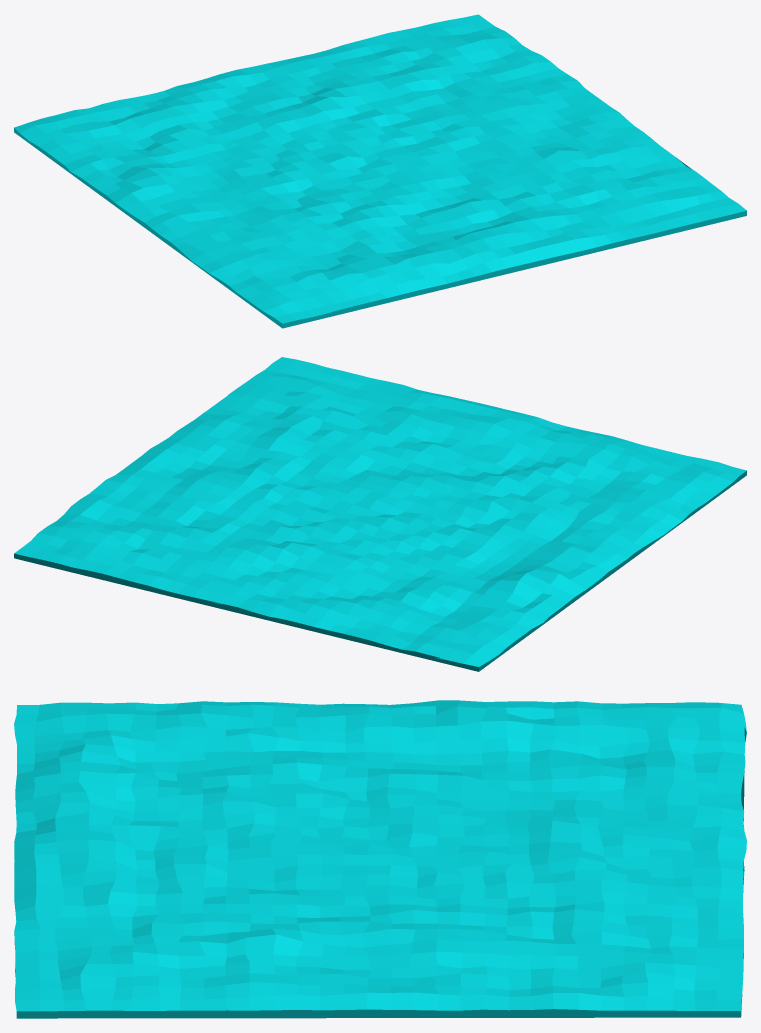
Rendered from sea.glb.
The picture shows the model from 3 angles, top to bottom: view 1: azimuth 30°, elevation 25°; view 2: azimuth 150°, elevation 25°; view 3: azimuth 270°, elevation 25°; orthographic projection. The views are drawn at different scales.
Parts seen in each view (by area): view 1: Cube; view 2: Cube; view 3: Cube.
Part boxes in pixels (<box>): Cube: <box>14,14,746,328</box>; Cube: <box>14,357,746,671</box>; Cube: <box>14,700,746,1018</box>.
Bounding box in the file's own units: 203 × 7.22 × 202.
